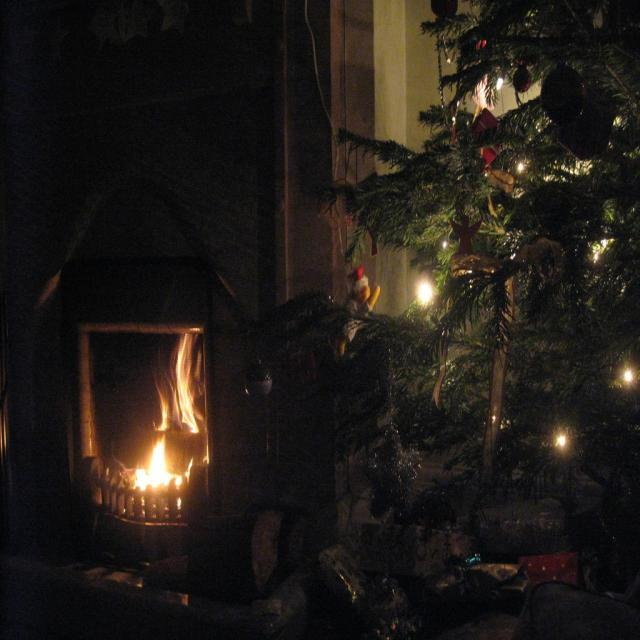Fire: (174, 342, 200, 430), (138, 442, 168, 494)
